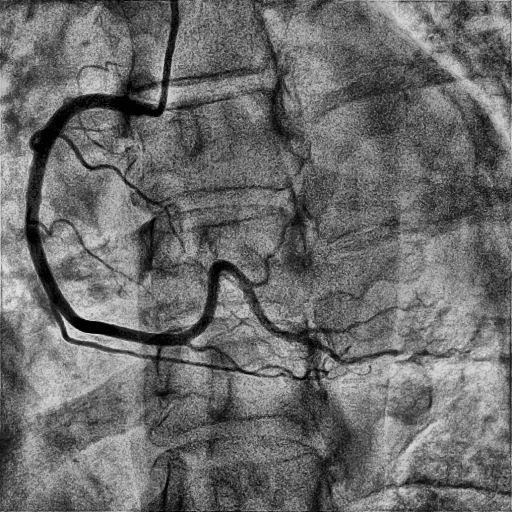pborca: (185, 261, 400, 365)
pda: (186, 342, 329, 381)
rca: (26, 93, 189, 347)
